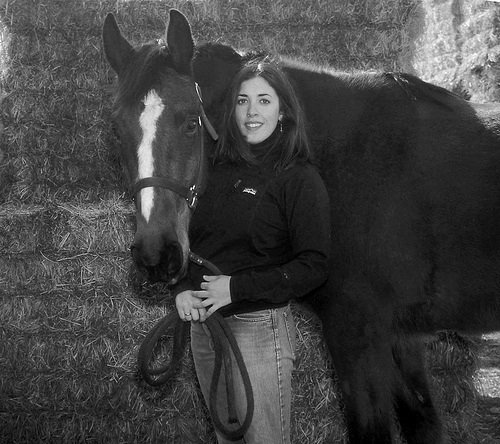without_mask: (228, 69, 290, 150)
